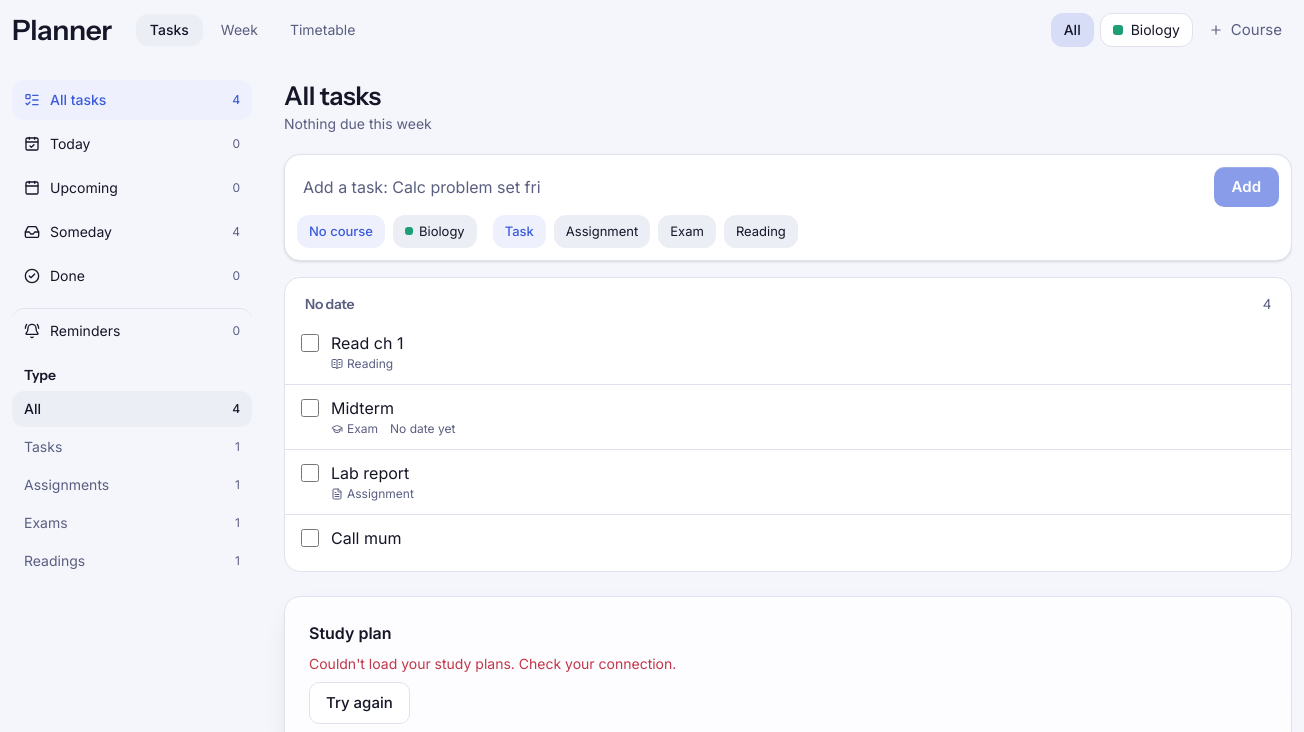
it: Task list › filters by type with counts on the chips
The width and height of the screenshot is (1304, 732).
Expected: the button "All 4" is shown, [12,390,252,426]
Click the button "Exams 1" at (132, 522), box [12,504,252,540]
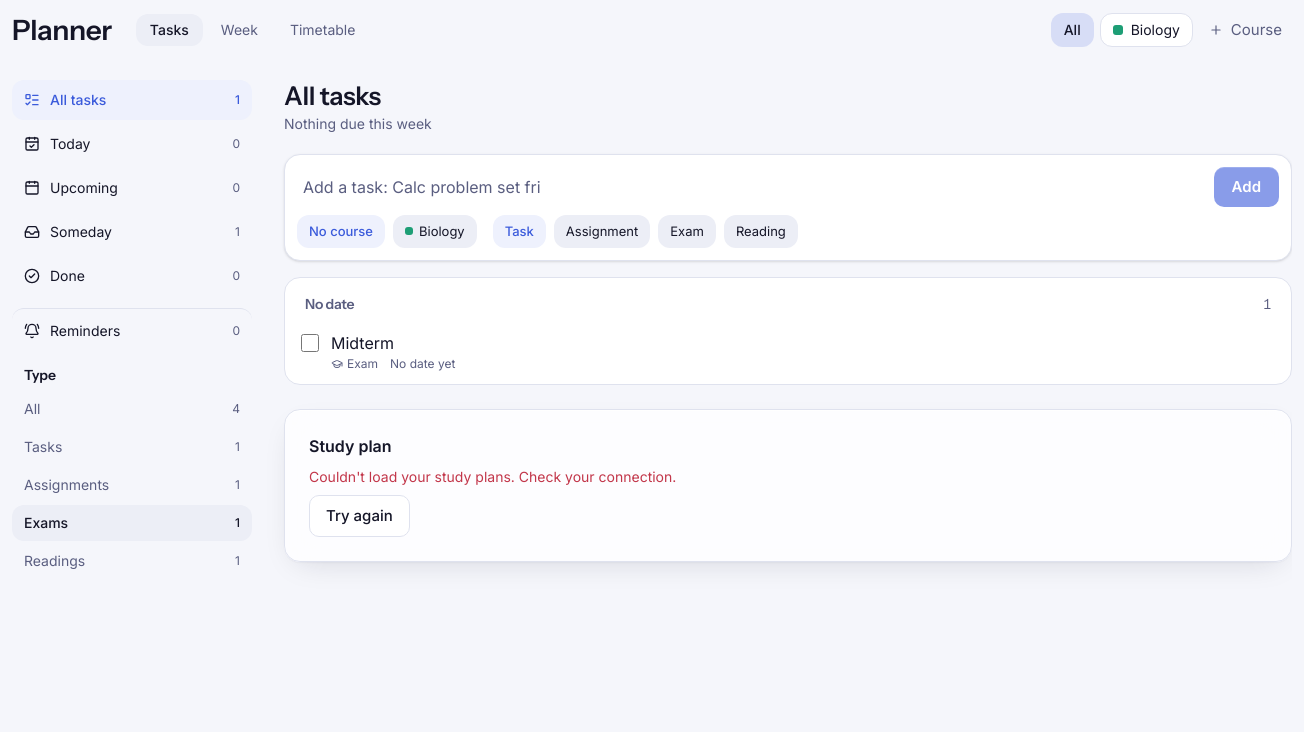
Expected: the button with aria-label "Edit Midterm" is shown, [331,332,394,354]
Expected: the button "Exams 1" is pressed, [12,504,252,540]
Click the button "All 4" at (132, 408), box [12,390,252,426]
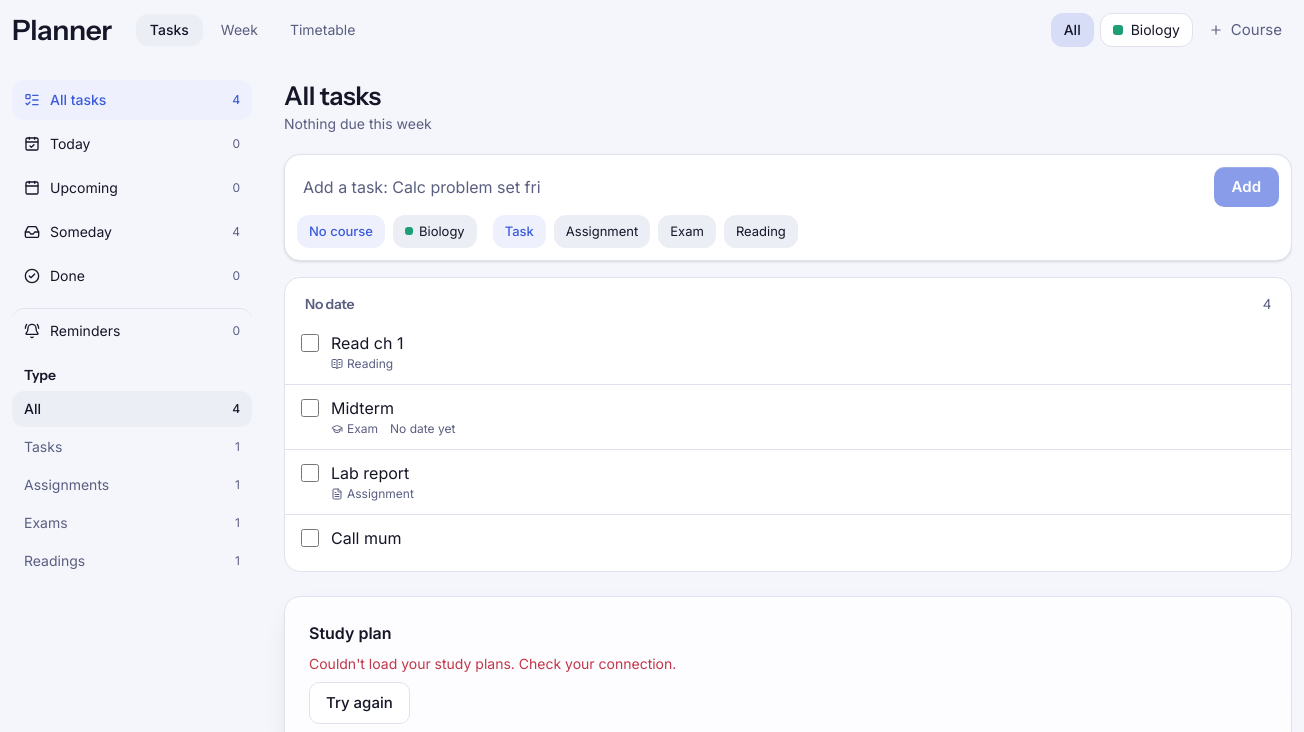
Expected: the button with aria-label "Edit Lab report" is shown, [331,462,409,484]
